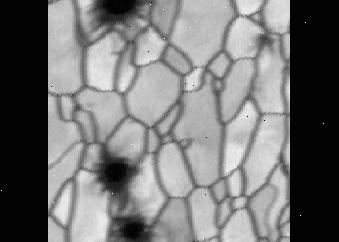good_void: (85, 138, 148, 212), (82, 0, 158, 59), (104, 210, 158, 242), (249, 22, 279, 65), (71, 95, 89, 115)
